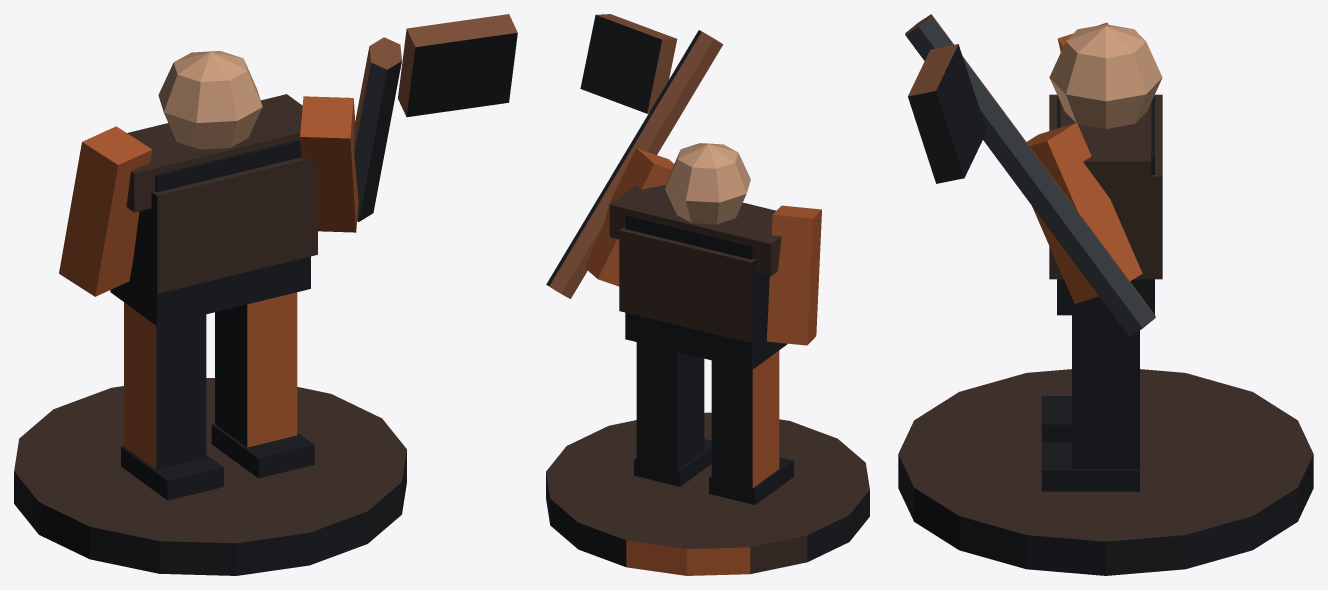
File: rioter_boss.glb
The picture shows the model from 3 angles, left to right: view 1: azimuth 30°, elevation 25°; view 2: azimuth 150°, elevation 25°; view 3: azimuth 270°, elevation 25°; orthographic projection. The views are drawn at different scales.
Parts seen in each view (by area): view 1: rioter_boss; view 2: rioter_boss; view 3: rioter_boss.
Part boxes in pixels (x1=…): rioter_boss: x1=14, y1=14, x2=517, y2=575; rioter_boss: x1=546, y1=14, x2=869, y2=575; rioter_boss: x1=898, y1=14, x2=1313, y2=575.
Size of the model in its own units: 1.26 by 1.51 by 1.1.
